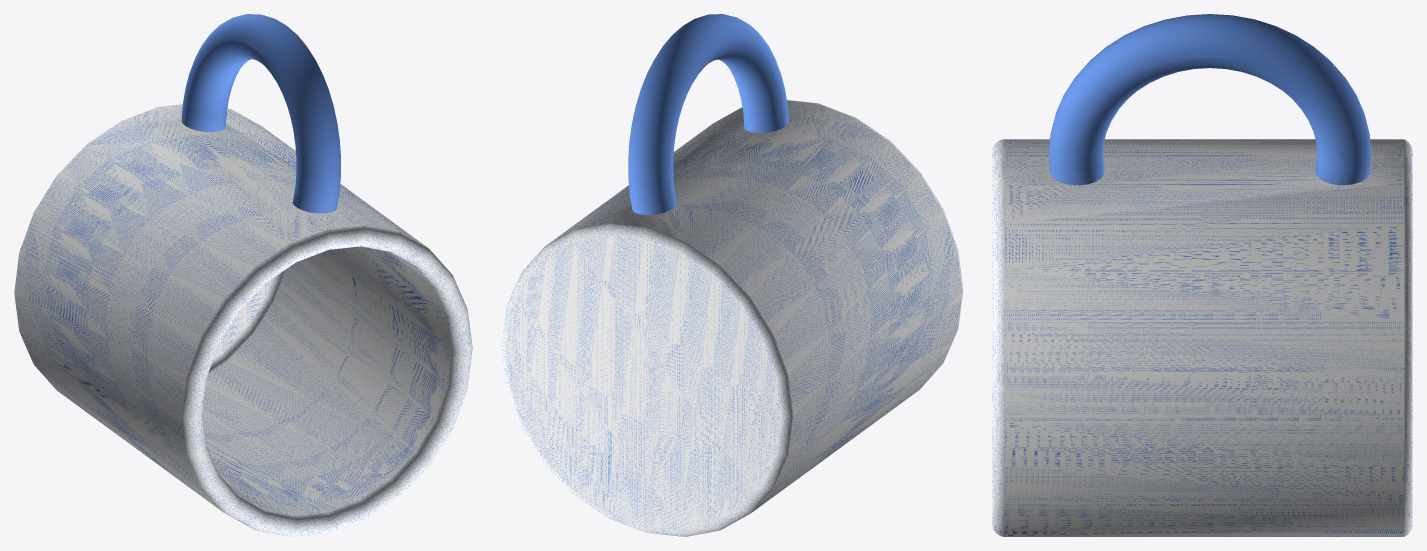
The model's file is model_scale.obj.
3 renders of one model, left to right at view 1: azimuth 30°, elevation 25°; view 2: azimuth 150°, elevation 25°; view 3: azimuth 270°, elevation 25°, orthographic. The views are drawn at different scales.
Visible parts, largest first — view 1: mesh1_mesh1-geometry; view 2: mesh1_mesh1-geometry; view 3: mesh1_mesh1-geometry.
Boxes of the visible parts, x1,y1,x2,y2 form: mesh1_mesh1-geometry: (14,14,472,536); mesh1_mesh1-geometry: (501,14,963,536); mesh1_mesh1-geometry: (992,14,1412,536).
Size of the model in its own units: 0.076 by 0.1096 by 0.0801.
